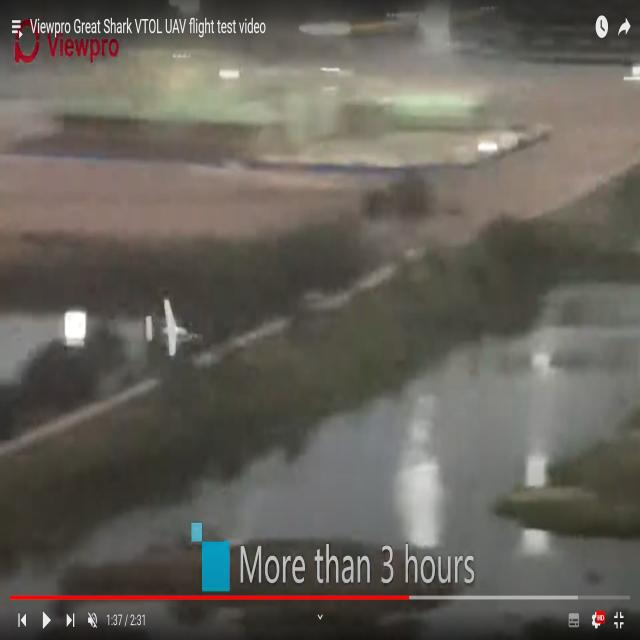iha: (144, 290, 188, 350)
